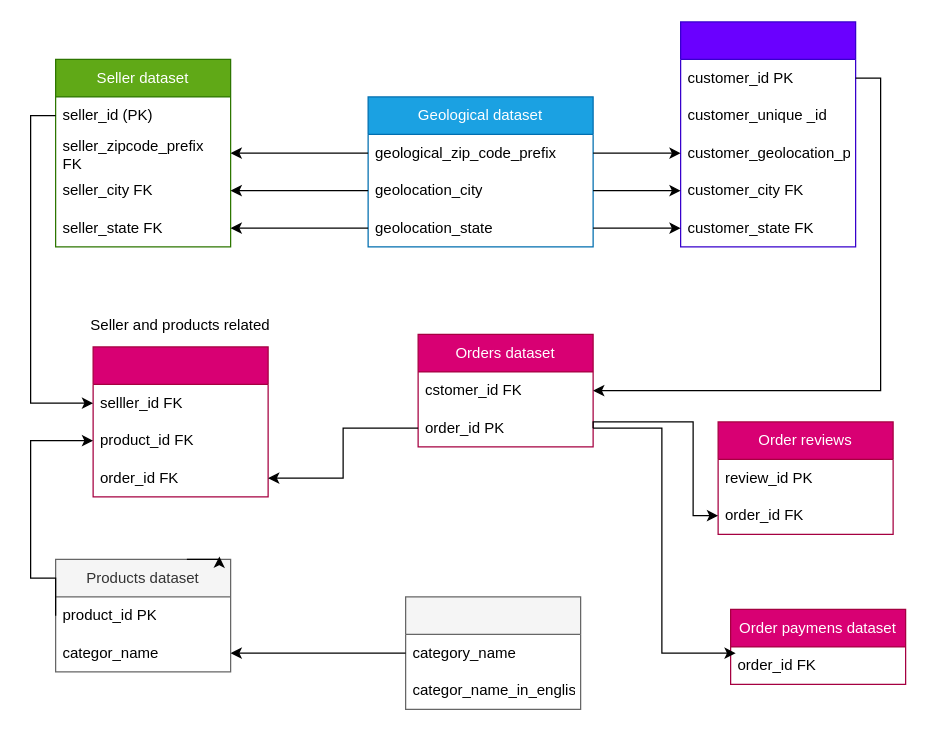
The diagram is 928 pixels wide and 731 high, and some of its shapes have lost their labels. The box of each missing label's shape, as (x1, y1, x2, y2) in pixels:
Customer dataset: (679, 21, 856, 247)
Order items dataset: (92, 346, 268, 497)
Product category name: (404, 596, 581, 709)
